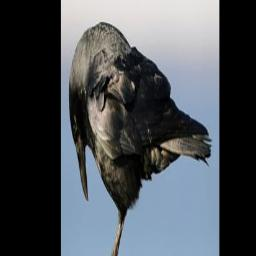Crow: (68, 20, 213, 256)
